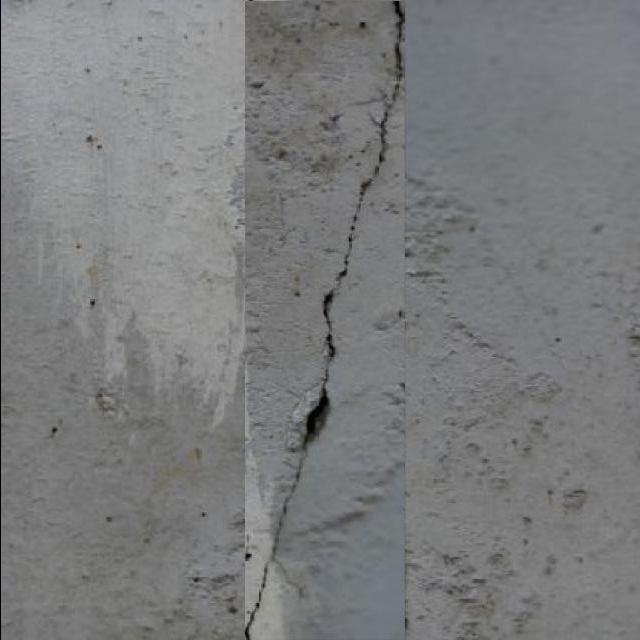crack: (239, 0, 407, 639)
